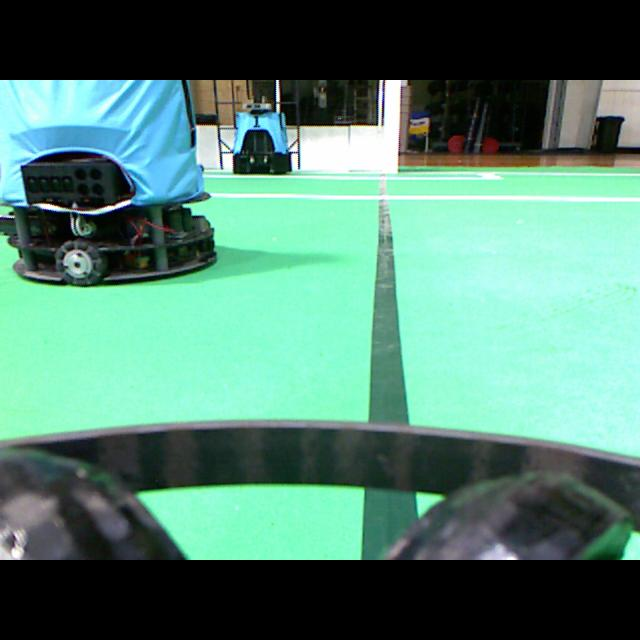goal: (382, 80, 400, 173)
